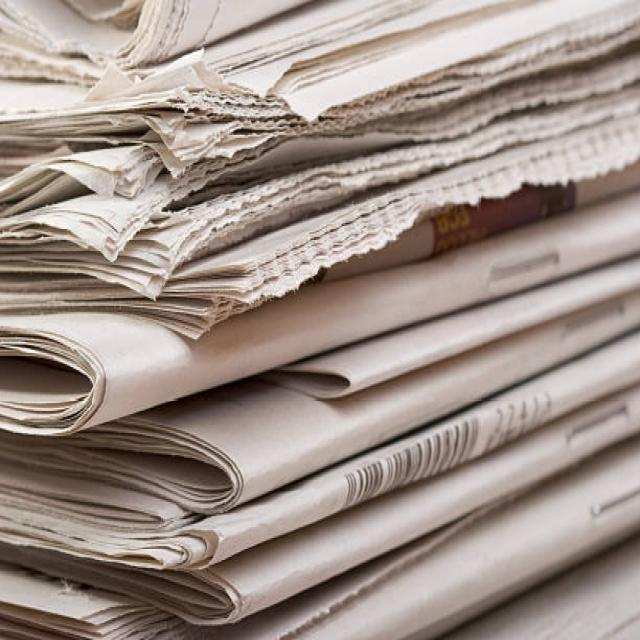electronic: (0, 160, 639, 438)
